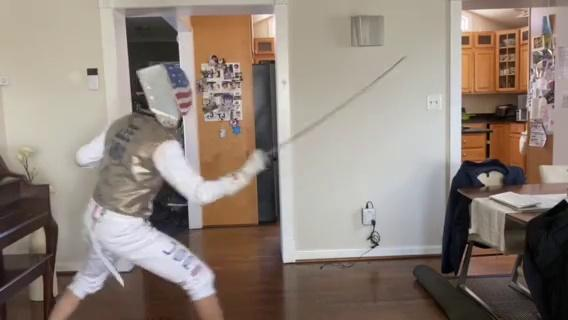blade-guard: (255, 144, 275, 169)
blade-tip: (376, 55, 409, 82)
fencing-blade: (253, 54, 411, 172)
